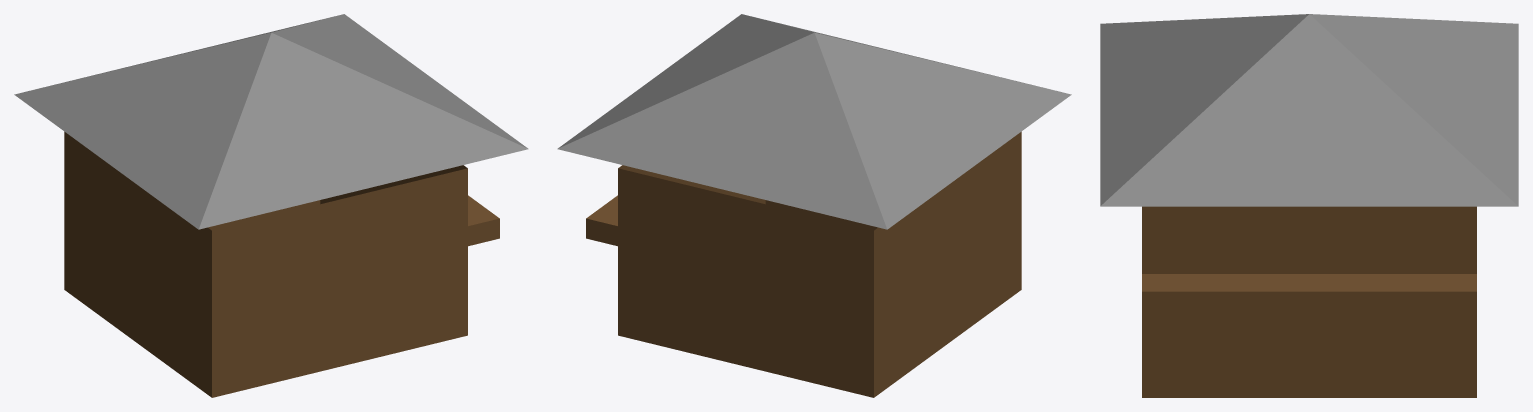
File: drinks_stand.obj
The picture shows the model from 3 angles, left to right: view 1: azimuth 30°, elevation 25°; view 2: azimuth 150°, elevation 25°; view 3: azimuth 270°, elevation 25°; orthographic projection. The views are drawn at different scales.
Bounding box in the file's own units: 3.1 × 2.5 × 3.
